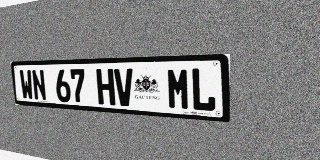6: (54, 69, 72, 103)
7: (69, 69, 87, 104)
H: (96, 69, 115, 105)
L: (191, 67, 216, 112)
M: (167, 68, 190, 110)
N: (31, 70, 47, 101)
V: (114, 68, 134, 107)
W: (19, 70, 34, 100)
